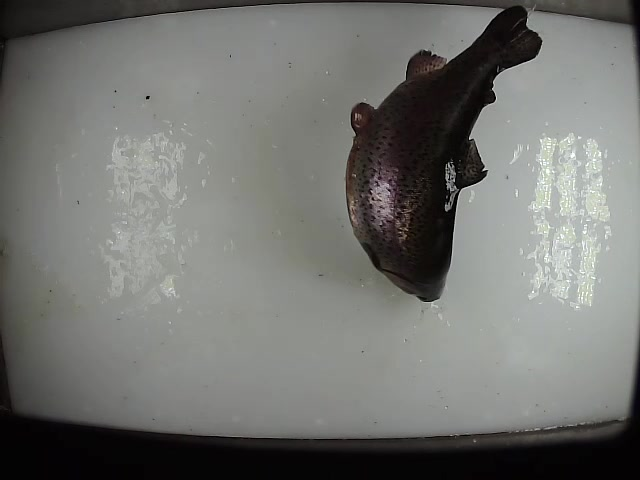fish: (342, 4, 543, 305)
